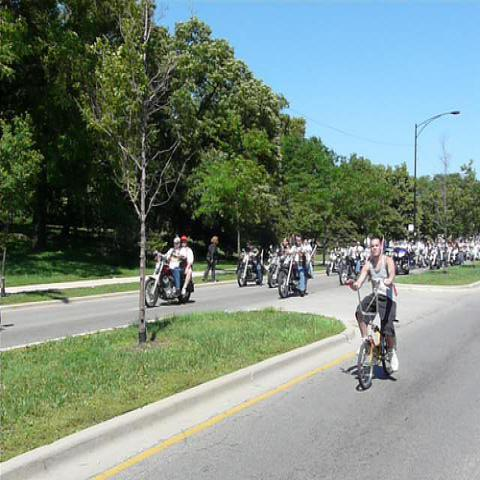motorcycle: (144, 246, 194, 306), (276, 250, 300, 300), (238, 251, 260, 289), (337, 256, 356, 286), (429, 252, 448, 270), (394, 254, 410, 272), (327, 256, 340, 276), (449, 248, 461, 266), (268, 263, 276, 289)
